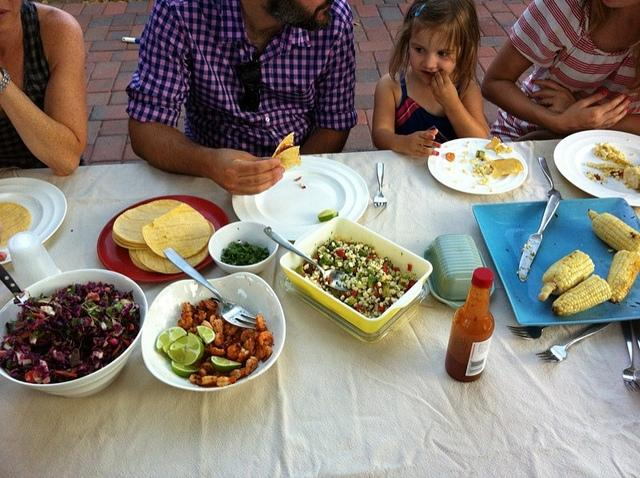corn: (538, 250, 596, 301), (552, 274, 612, 316), (588, 208, 640, 254), (606, 251, 638, 304), (613, 150, 621, 154), (478, 182, 484, 186), (614, 154, 618, 160), (480, 167, 484, 171), (483, 164, 487, 168), (596, 143, 600, 145)
lime: (155, 326, 187, 352), (184, 332, 204, 366), (211, 356, 241, 374), (171, 360, 200, 378), (197, 326, 216, 344), (168, 334, 188, 351), (168, 347, 186, 363), (317, 209, 338, 222), (160, 341, 174, 356)
